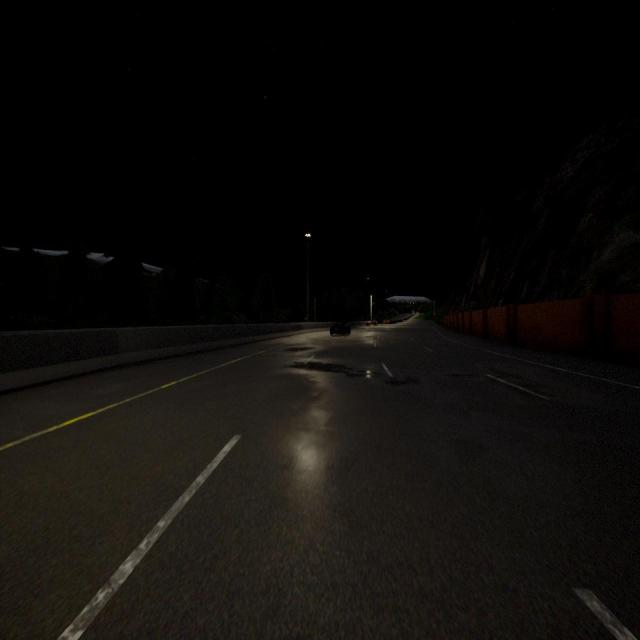Vehicle: (330, 321, 350, 337)
traffic_light: (433, 311, 435, 316)
